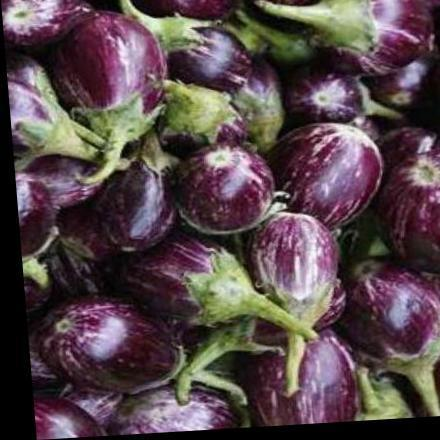eggplant: (7, 0, 439, 439)
